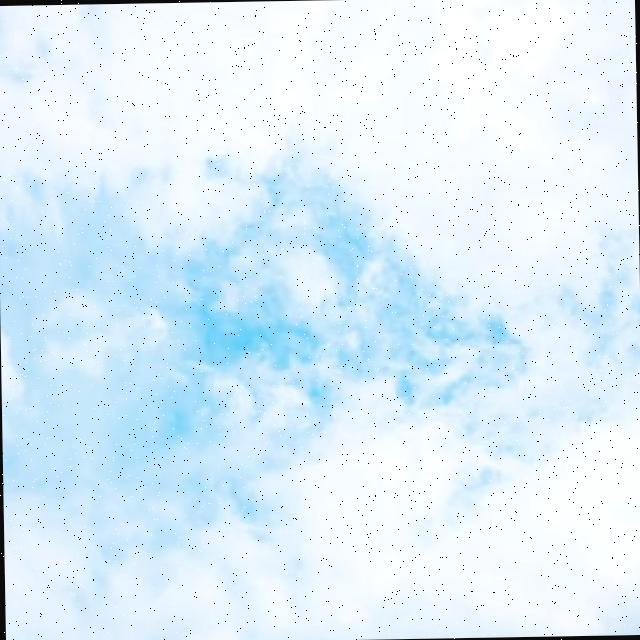Ns: (1, 79, 640, 577)
